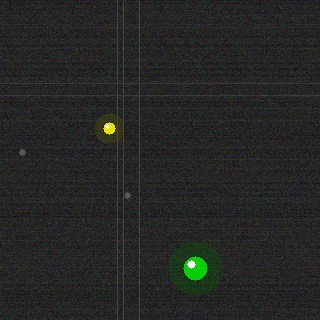green_normal: (181, 254, 209, 282)
yellow_warning: (101, 120, 117, 136)
